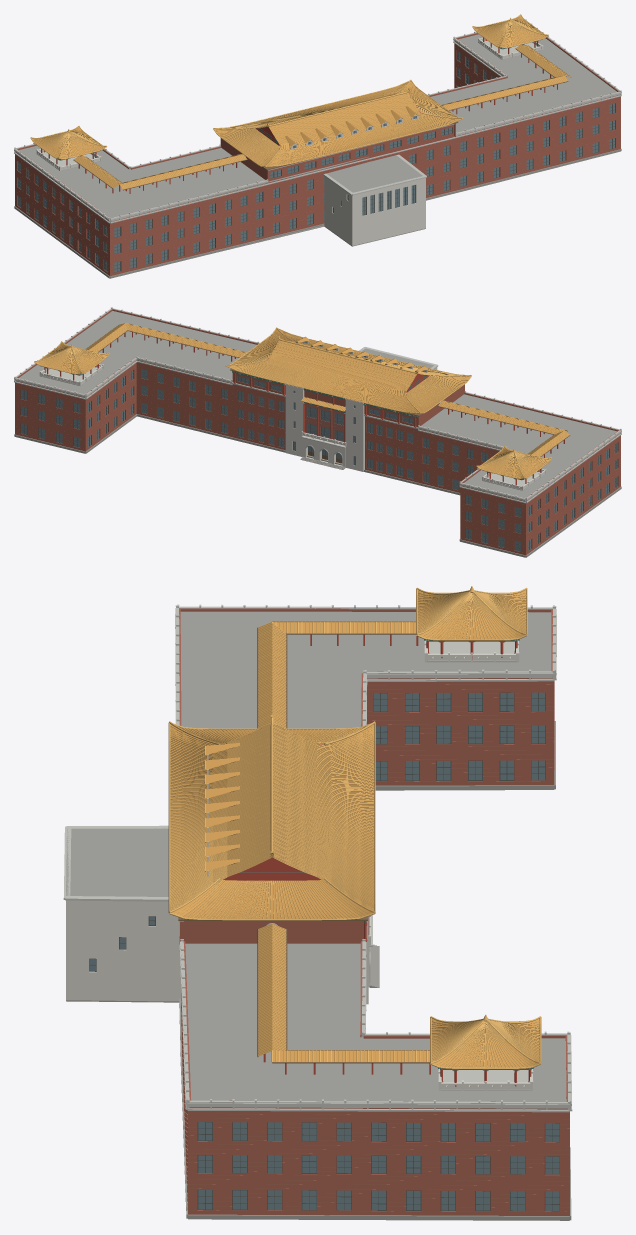
Rendered from xuhui-medical-college-east-building-one-web.glb.
The picture shows the model from 3 angles, top to bottom: view 1: azimuth 30°, elevation 25°; view 2: azimuth 150°, elevation 25°; view 3: azimuth 270°, elevation 25°; orthographic projection. The views are drawn at different scales.
Parts seen in each view (by area): view 1: 国立上海医学院东一号楼（草坪立面、歇山顶与两翼方亭）; view 2: 国立上海医学院东一号楼（草坪立面、歇山顶与两翼方亭）; view 3: 国立上海医学院东一号楼（草坪立面、歇山顶与两翼方亭）.
Boxes of the visible parts, left/top/right/bottom form: 国立上海医学院东一号楼（草坪立面、歇山顶与两翼方亭）: left=14, top=14, right=621, bottom=278; 国立上海医学院东一号楼（草坪立面、歇山顶与两翼方亭）: left=14, top=307, right=621, bottom=557; 国立上海医学院东一号楼（草坪立面、歇山顶与两翼方亭）: left=63, top=586, right=572, bottom=1220.
Bounding box in the file's own units: 119 × 20.67 × 51.47.
